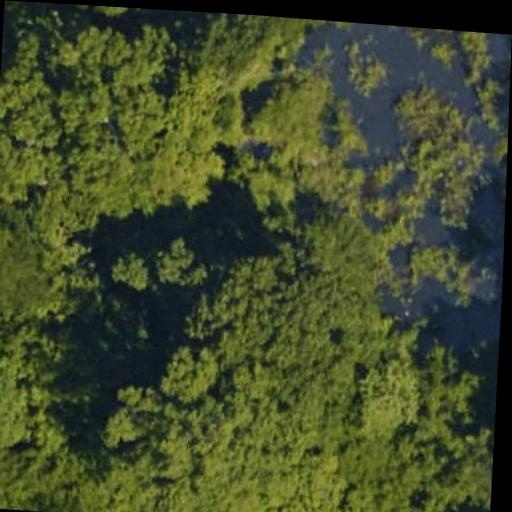tree-top: (43, 19, 201, 224), (193, 250, 368, 427), (90, 377, 295, 512), (280, 209, 387, 314), (243, 65, 347, 164), (0, 216, 87, 328), (350, 349, 432, 445), (0, 26, 62, 143), (180, 11, 273, 79), (157, 334, 225, 416), (0, 366, 36, 511), (148, 231, 212, 302), (0, 133, 51, 207), (108, 244, 148, 296)
